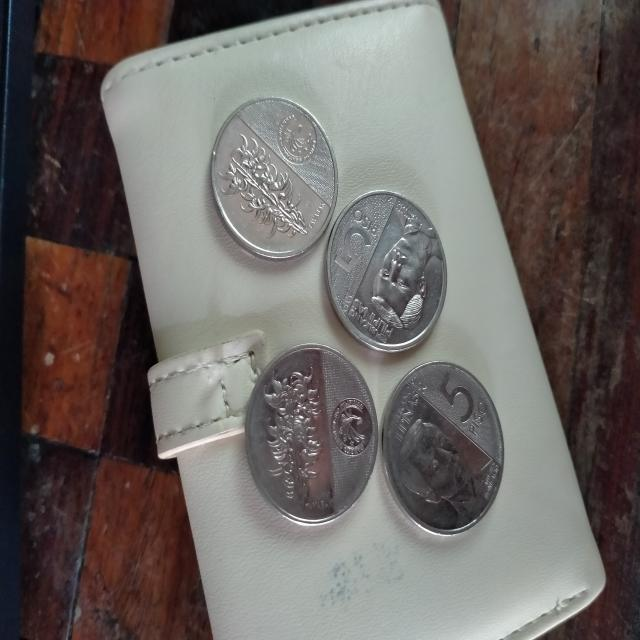5_New_Back: (206, 124, 310, 248), (257, 354, 328, 523)
5_New_Front: (429, 360, 496, 446), (321, 198, 388, 274)
